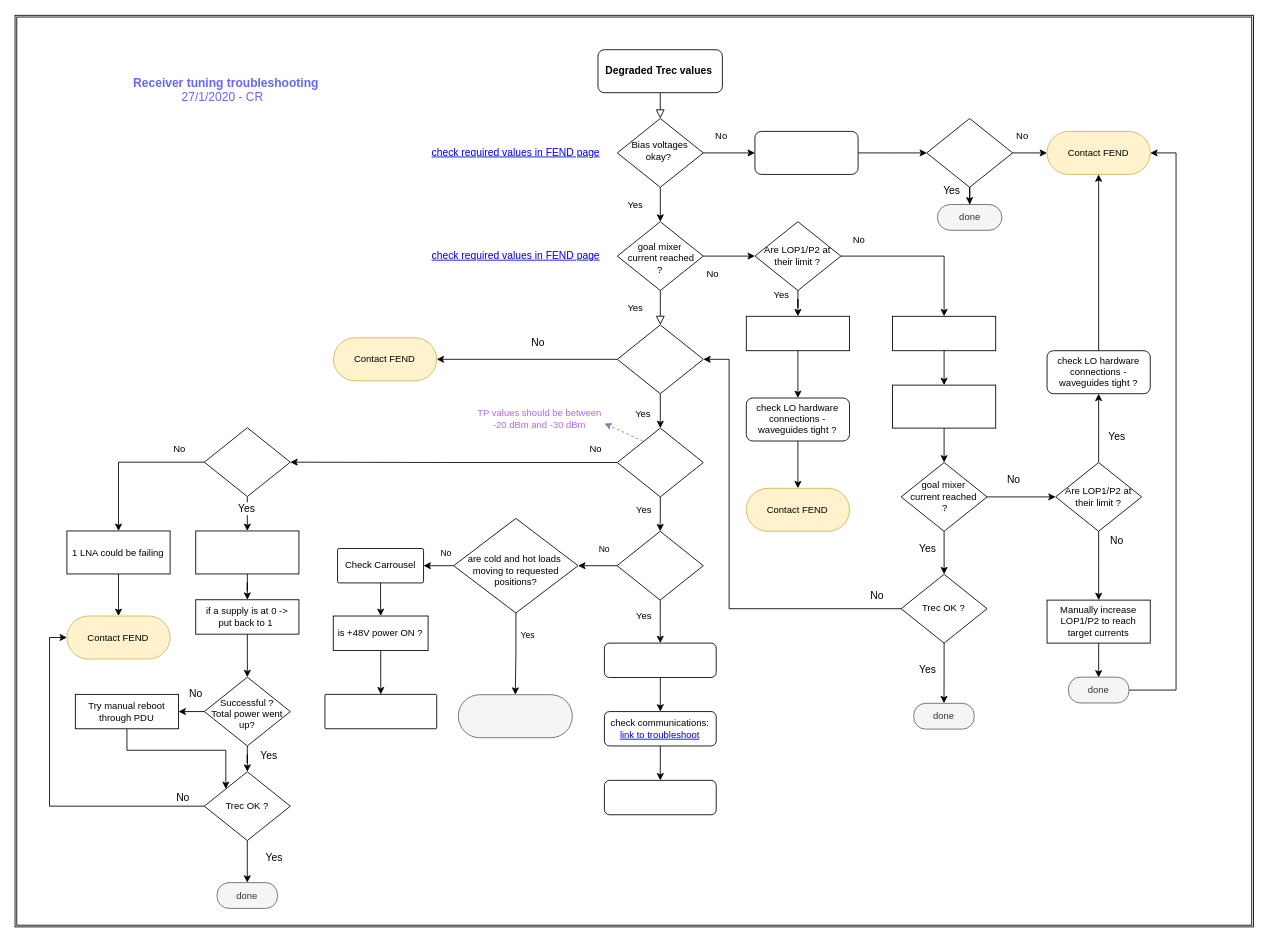
Some shapes in this 1269 by 942 pixel diagram are drawn without their labels. The centre of each missing label's shape, as x and y in pixels:
"Are all 4 channels Trec bad ?" goes at (x=246, y=462).
"Are total power values okay ?" goes at (x=659, y=462).
"Check for blockage in the receiver path - e.g. ice or something fell" goes at (x=514, y=716).
"Check I2C power supply in rec-gui" goes at (x=247, y=552).
"Check laser rack - optical power levels" goes at (x=660, y=660).
"check log messages" goes at (x=944, y=406).
"cryo temperatures okay ?" goes at (x=659, y=359).
"Insufficient LO power" goes at (x=797, y=333).
"Is CAN communication working ? restart" goes at (x=380, y=711).
"Reboot micro" goes at (x=806, y=152).
"repeat tuning Trec okay?" goes at (x=969, y=152).
"restart everything" goes at (x=660, y=797).
"send again a rec-mixer" goes at (x=944, y=333).
"Total power changes when moving cold/hot ?" goes at (x=659, y=565).
